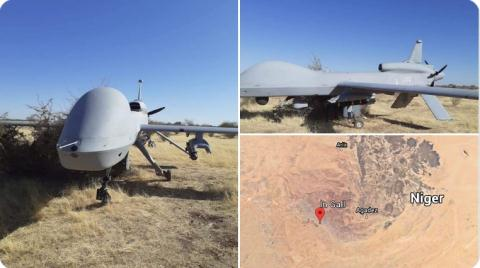maybay_muctieu: (16, 81, 255, 208), (245, 49, 480, 122)
